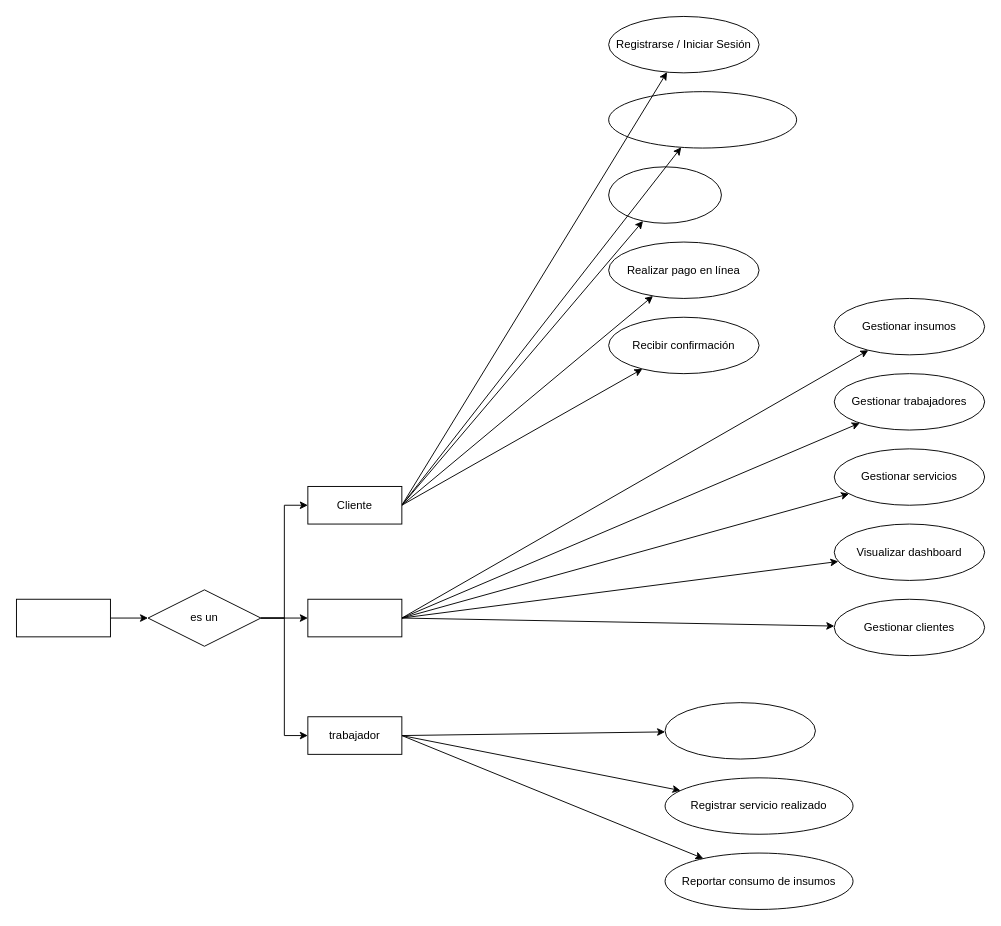
Some shapes in this 1001 by 926 pixel diagram are drawn without their labels. The centre of each missing label's shape, as x and y in pixels:
"administrador" goes at point 354,617.
"Agendar cita" goes at point 664,194.
"Consultar agenda" goes at point 739,730.
"persona" goes at point 63,617.
"Solicitar servicio de bronceado" goes at point 702,119.
